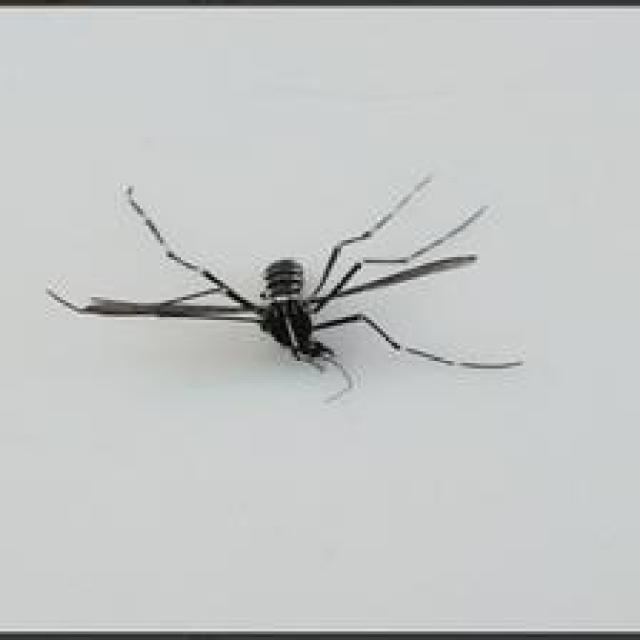Aedes albopictus: (44, 171, 524, 403)
